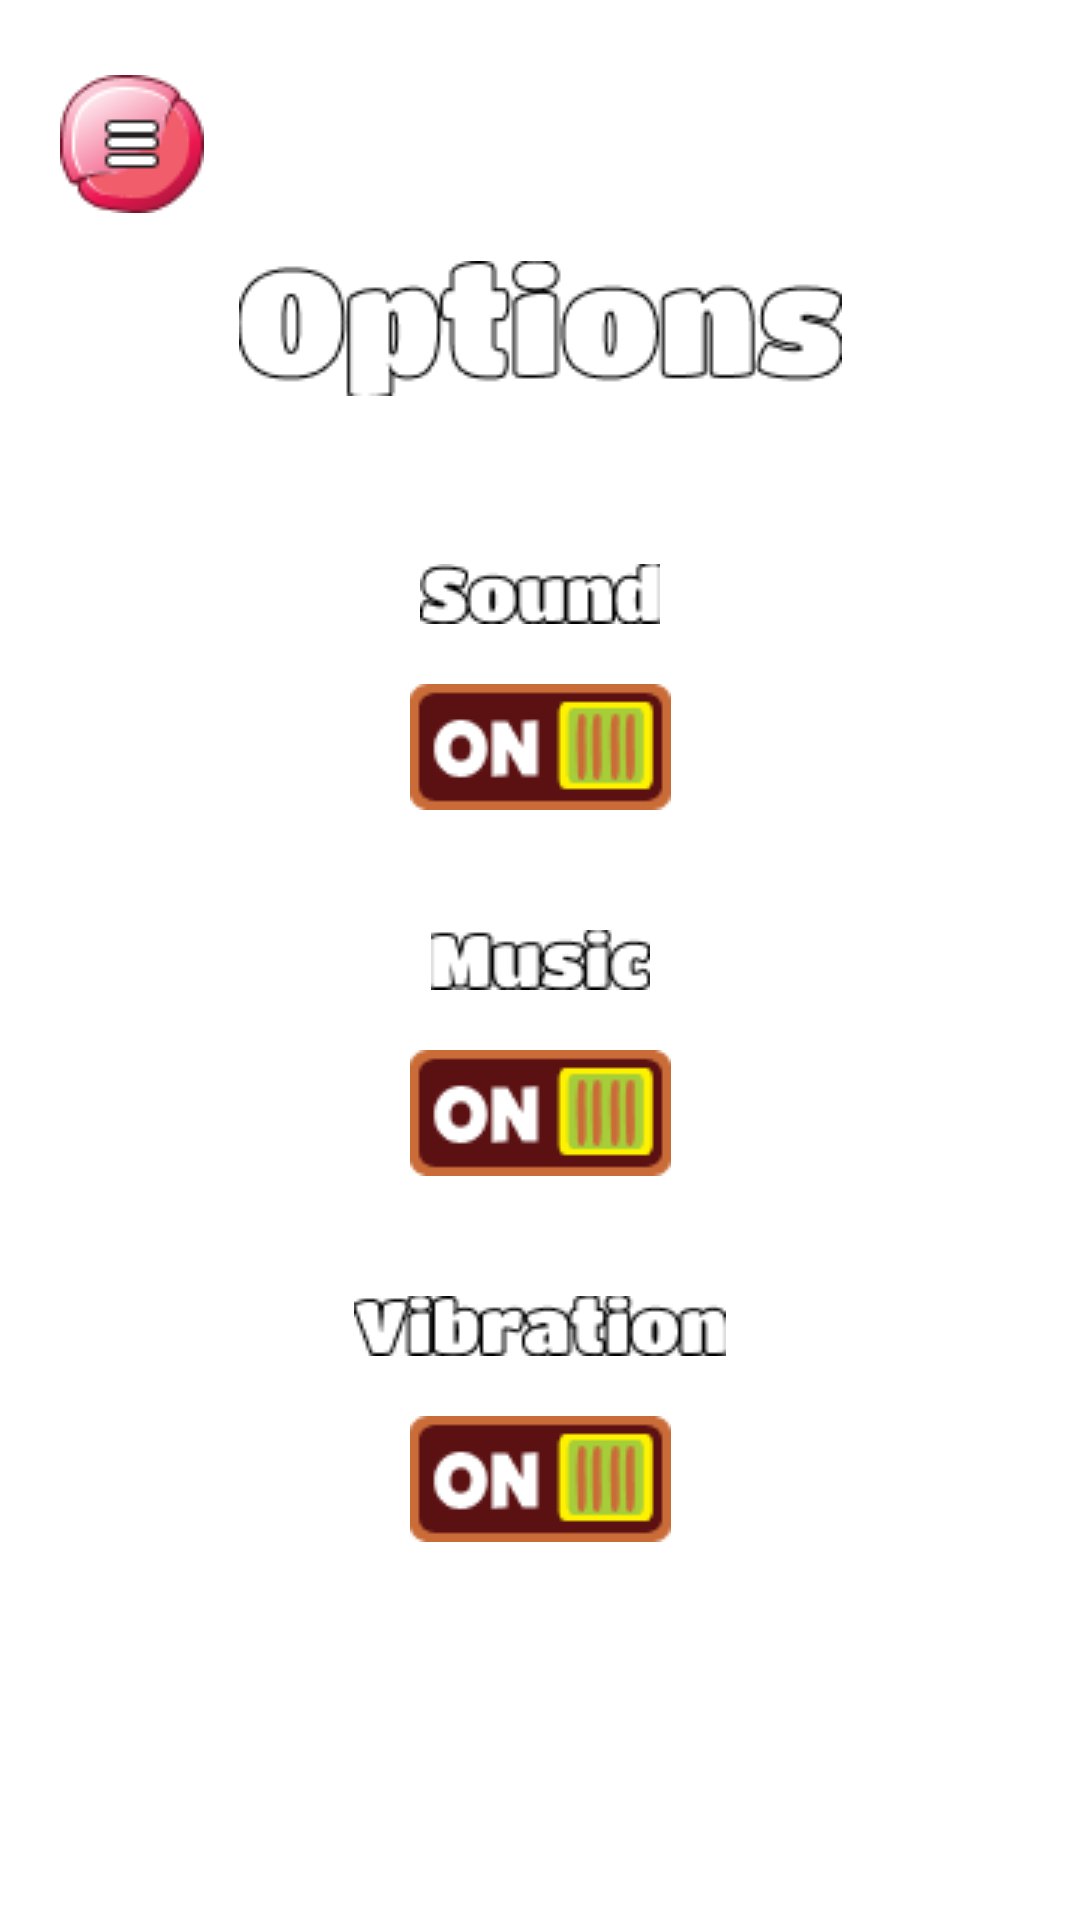

Icon click points for this 1080 × 1920 phone screenshot, format [x,y]:
menu: [132,144]
